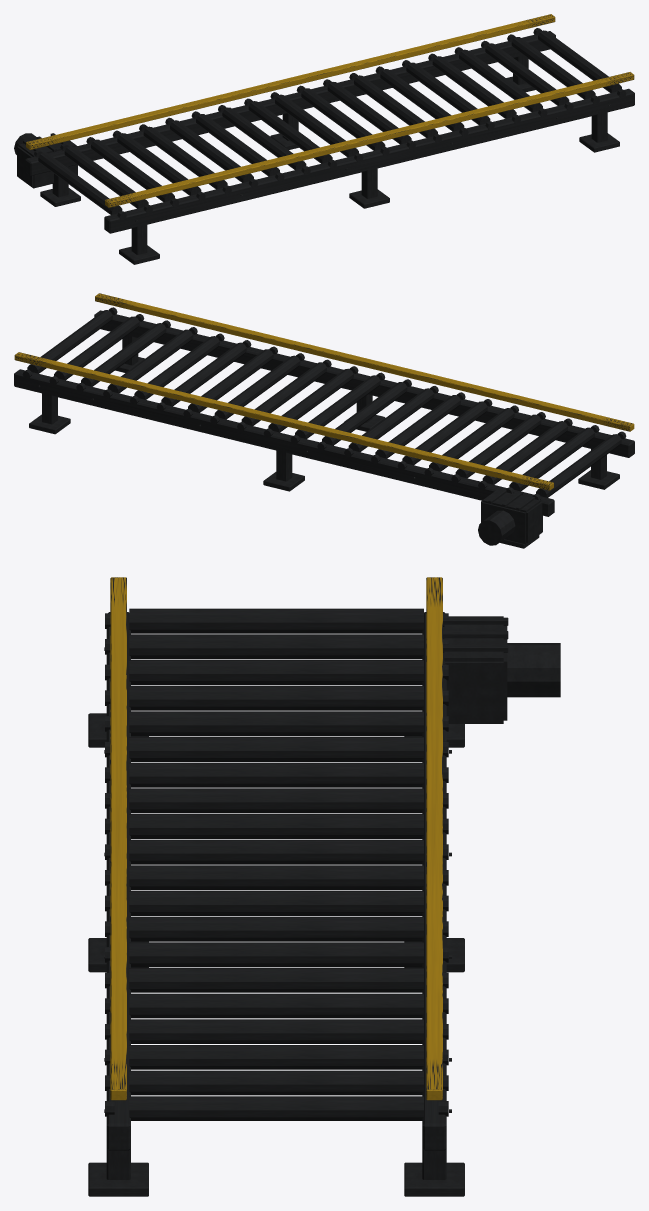
File: HarborConveyor.fbx
3 renders of one model, top to bottom at view 1: azimuth 30°, elevation 25°; view 2: azimuth 150°, elevation 25°; view 3: azimuth 270°, elevation 25°, orthographic. The views are drawn at different scales.
Visible parts, largest first — view 1: HarborConveyor.001; view 2: HarborConveyor.001; view 3: HarborConveyor.001.
Part boxes in pixels (bbox=[...]): HarborConveyor.001: bbox=[14, 14, 634, 264]; HarborConveyor.001: bbox=[14, 293, 634, 548]; HarborConveyor.001: bbox=[88, 577, 560, 1196].
Bounding box in the file's own units: 8 × 0.92 × 3.11.
